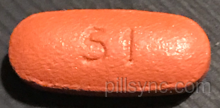Ibuprofen 200 MG Oral Tablet: (3, 4, 218, 98)
